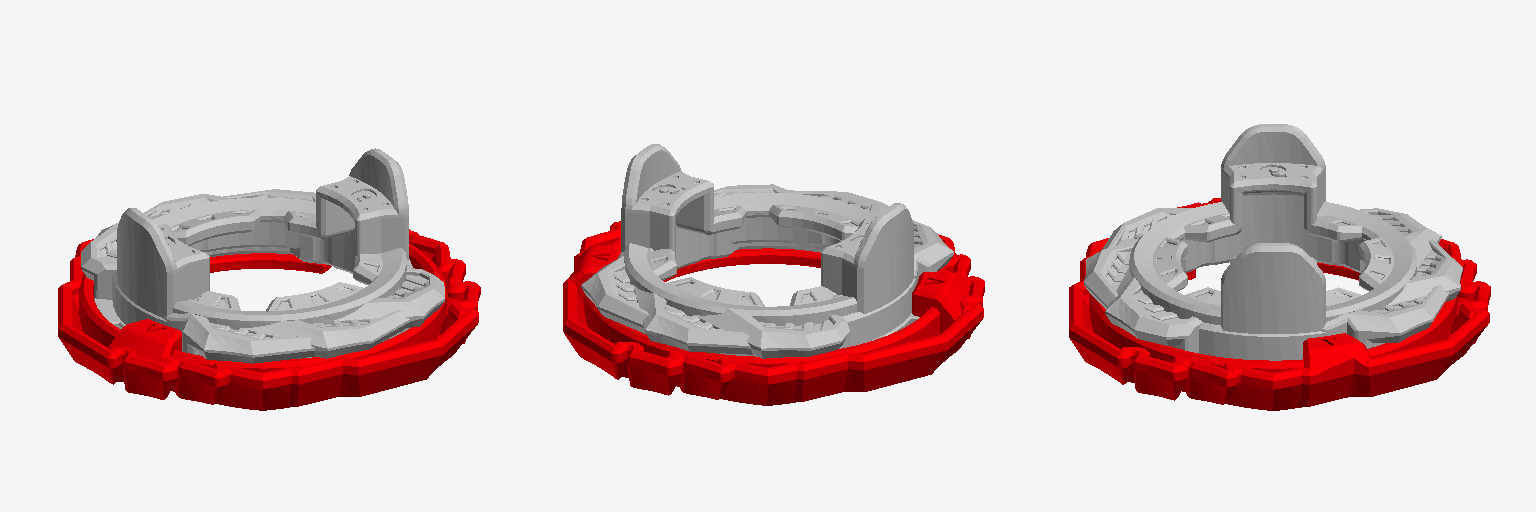
File: 6vdisk.obj
The picture shows the model from 3 angles: view 1: azimuth 30°, elevation 25°; view 2: azimuth 150°, elevation 25°; view 3: azimuth 270°, elevation 25°; orthographic projection.
Visible parts, largest first — view 1: Mesh_0020out.001, Mesh_0033out.002; view 2: Mesh_0020out.001, Mesh_0033out.002; view 3: Mesh_0020out.001, Mesh_0033out.002.
Boxes of the visible parts, box(x1,y1,x2,y2) form: Mesh_0020out.001: box(81, 148, 444, 363); Mesh_0033out.002: box(58, 229, 480, 410); Mesh_0020out.001: box(581, 144, 953, 358); Mesh_0033out.002: box(563, 221, 984, 405); Mesh_0020out.001: box(1084, 124, 1462, 360); Mesh_0033out.002: box(1069, 198, 1490, 410).
Bounding box in the file's own units: 0.4688 × 0.173 × 0.4542.